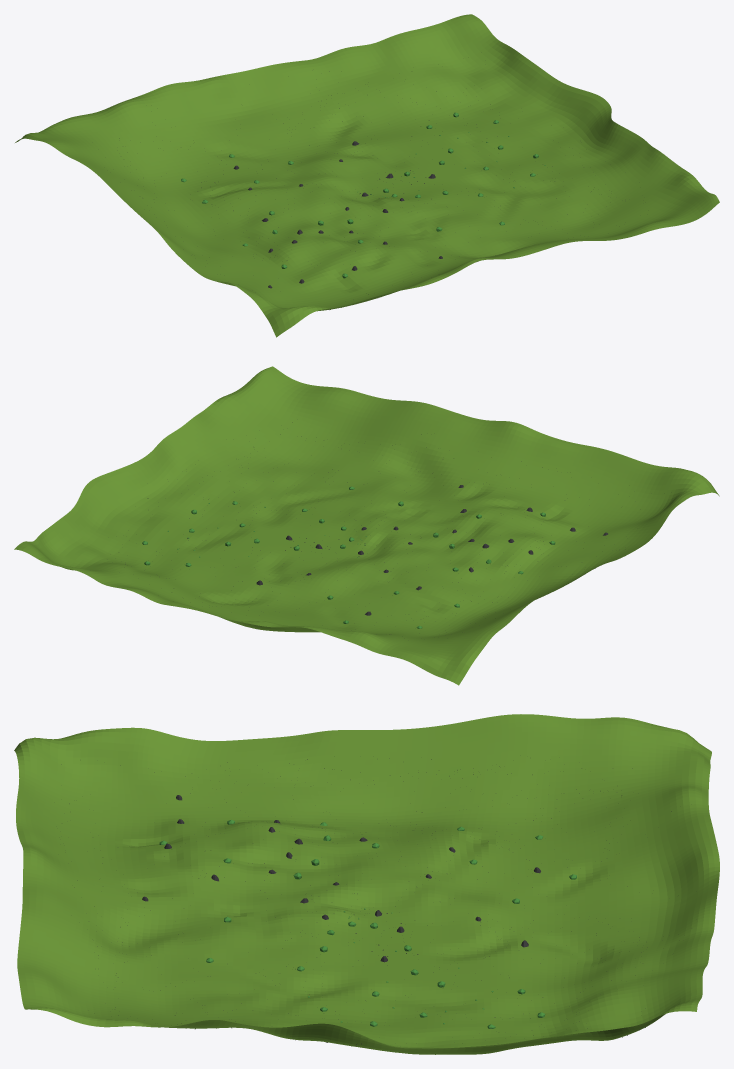
The model's file is map2.fbx.
3 renders of one model, top to bottom at view 1: azimuth 30°, elevation 25°; view 2: azimuth 150°, elevation 25°; view 3: azimuth 270°, elevation 25°, orthographic. The views are drawn at different scales.
Visible parts, largest first — view 1: Plane; view 2: Plane; view 3: Plane.
Boxes of the visible parts, x1,y1,x2,y2 form: Plane: (15, 14, 719, 337); Plane: (14, 366, 719, 685); Plane: (14, 714, 719, 1054).
Size of the model in its own units: 41116 by 4014 by 39615.
